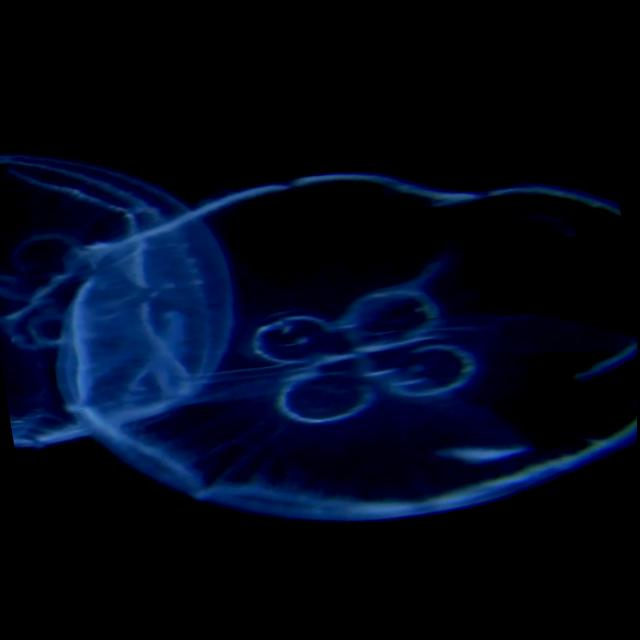Moon-jellyfish: (0, 153, 638, 517)
